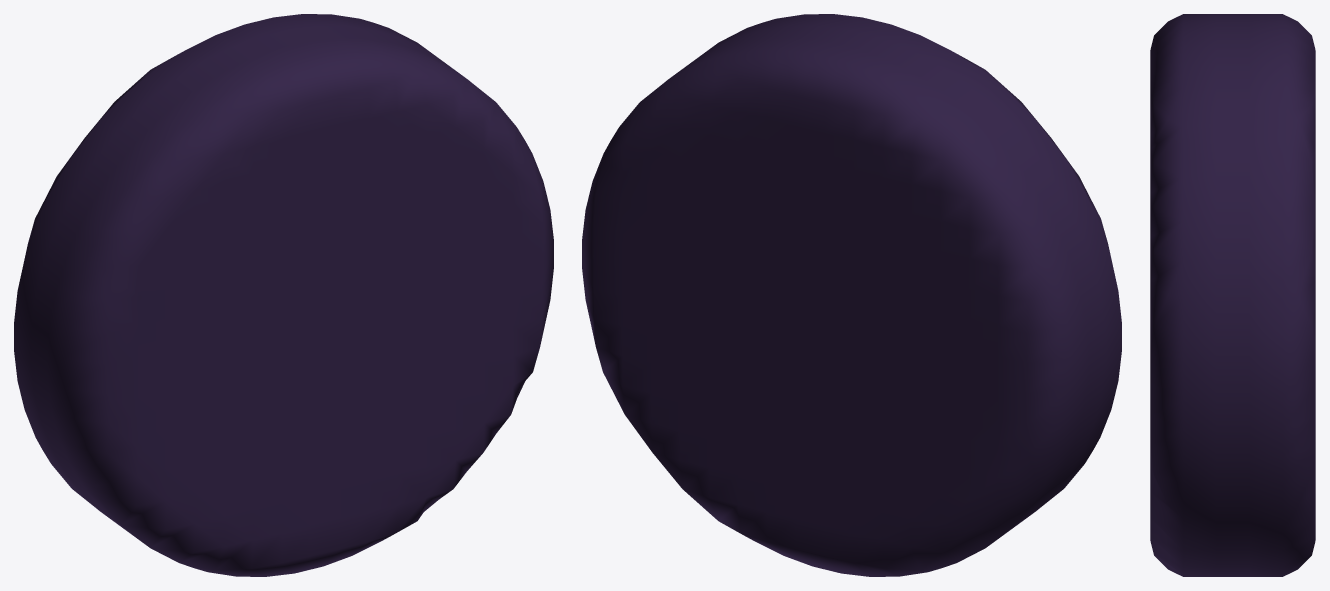
Rendered from 022_spatial_camera_iris_detail.glb.
3 renders of one model, left to right at view 1: azimuth 30°, elevation 25°; view 2: azimuth 150°, elevation 25°; view 3: azimuth 270°, elevation 25°, orthographic.
Visible parts, largest first — view 1: 022 | Spatial Camera Iris Detail; view 2: 022 | Spatial Camera Iris Detail; view 3: 022 | Spatial Camera Iris Detail.
Part boxes in pixels (box(x1,y1,x2,y2)): 022 | Spatial Camera Iris Detail: box(14, 14, 553, 576); 022 | Spatial Camera Iris Detail: box(582, 14, 1121, 576); 022 | Spatial Camera Iris Detail: box(1150, 14, 1315, 576).
Size of the model in its own units: 0.00136 by 0.00136 by 0.0004.
